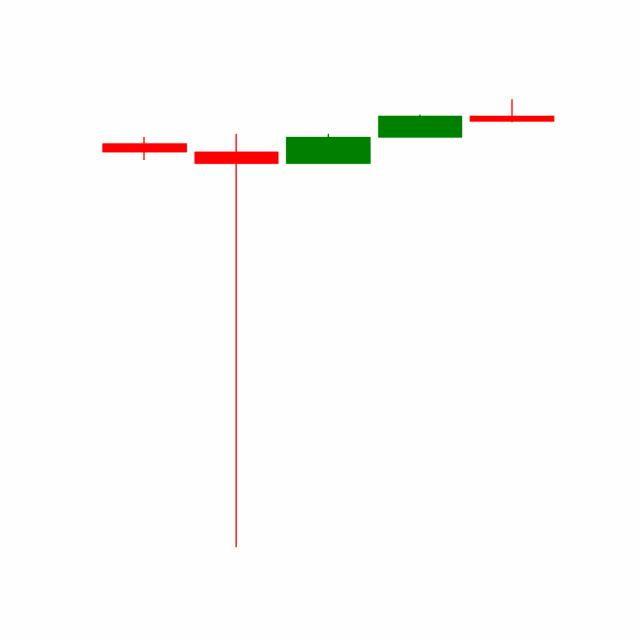Gravestone Doji: (464, 98, 558, 123)
